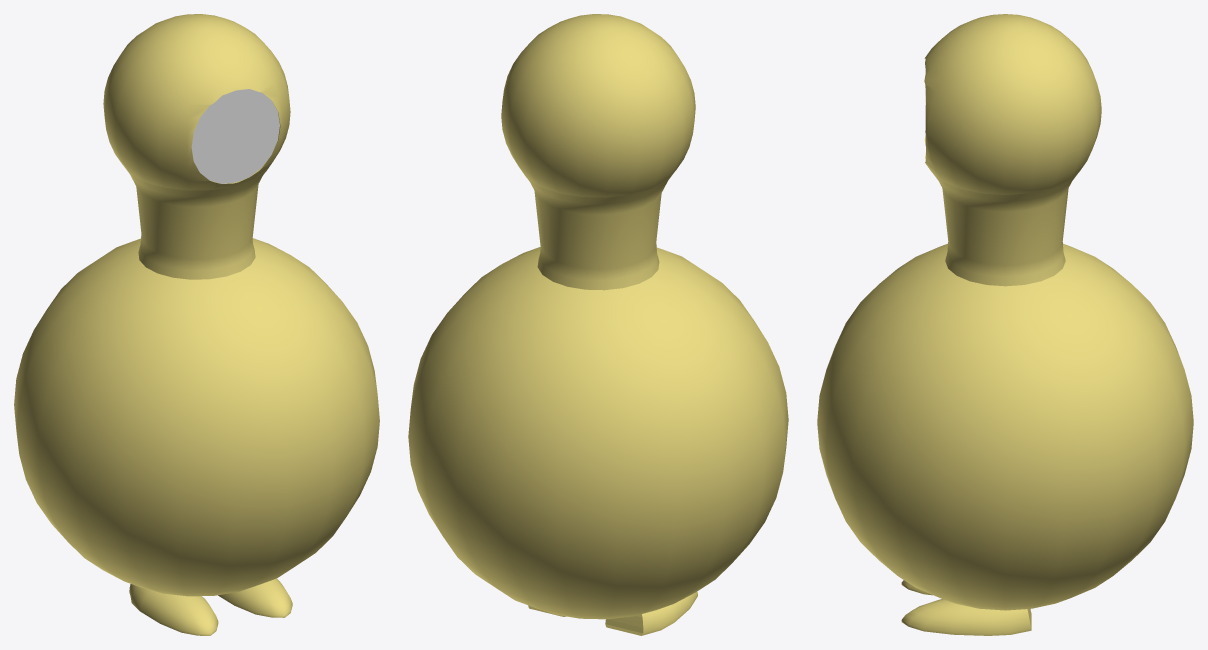
The model's file is friend3.fbx.
3 views of the same model, side by side, from view 1: azimuth 30°, elevation 25°; view 2: azimuth 150°, elevation 25°; view 3: azimuth 270°, elevation 25° (orthographic). The views are drawn at different scales.
Visible parts, largest first — view 1: pSphere12, pSphere16, pSphere5, pSphere3; view 2: pSphere12, pSphere16, pSphere5; view 3: pSphere12, pSphere16, pSphere3.
Part boxes in pixels (x1,y1,x2,y2): pSphere12: (14, 238, 379, 596); pSphere16: (103, 14, 290, 279); pSphere5: (129, 584, 218, 635); pSphere3: (218, 578, 292, 617); pSphere12: (408, 247, 788, 619); pSphere16: (501, 14, 695, 290); pSphere5: (605, 592, 697, 635); pSphere12: (817, 243, 1193, 610); pSphere16: (924, 14, 1101, 286); pSphere3: (901, 599, 1031, 635).
Size of the model in its own units: 4.29 by 7.29 by 4.29.
